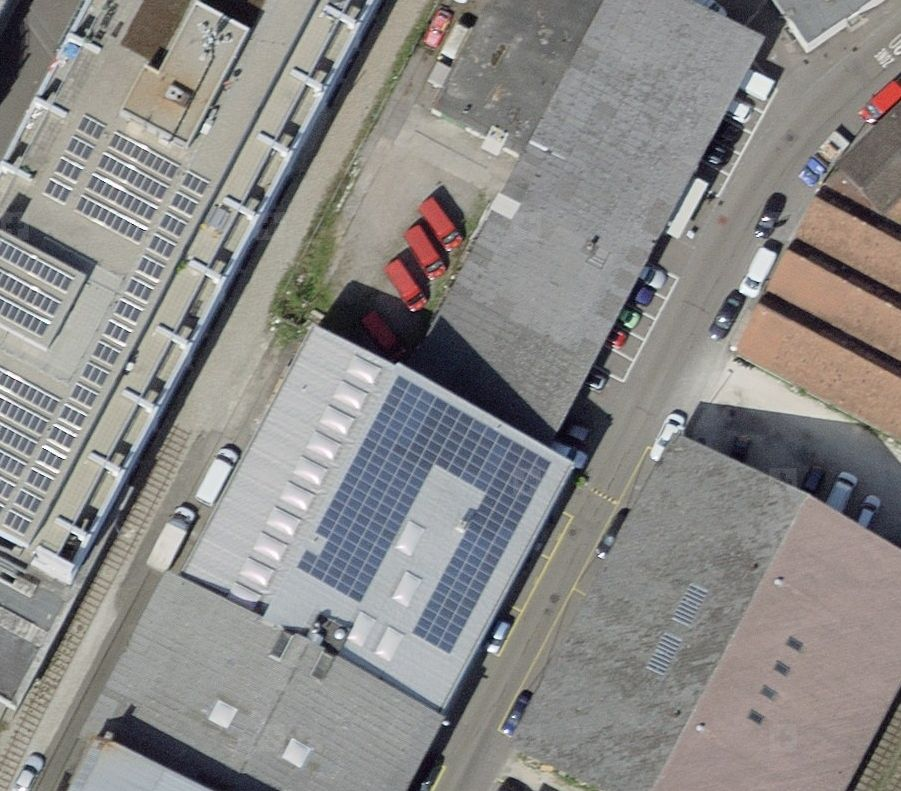solar: (1, 114, 210, 541), (293, 374, 553, 655)
